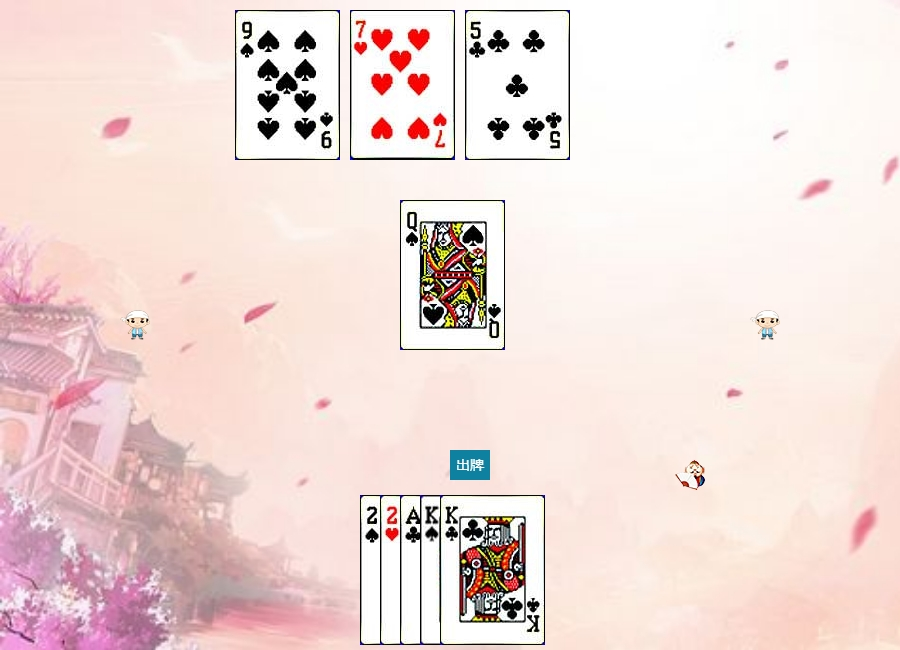12~4: (400, 200, 505, 350)
13~2: (440, 495, 545, 645)
13~4: (420, 495, 525, 645)
14~2: (400, 495, 505, 645)
15~3: (380, 495, 485, 645)
15~4: (360, 495, 465, 645)
5~2: (465, 10, 570, 160)
7~3: (350, 10, 455, 160)
9~4: (235, 10, 340, 160)
